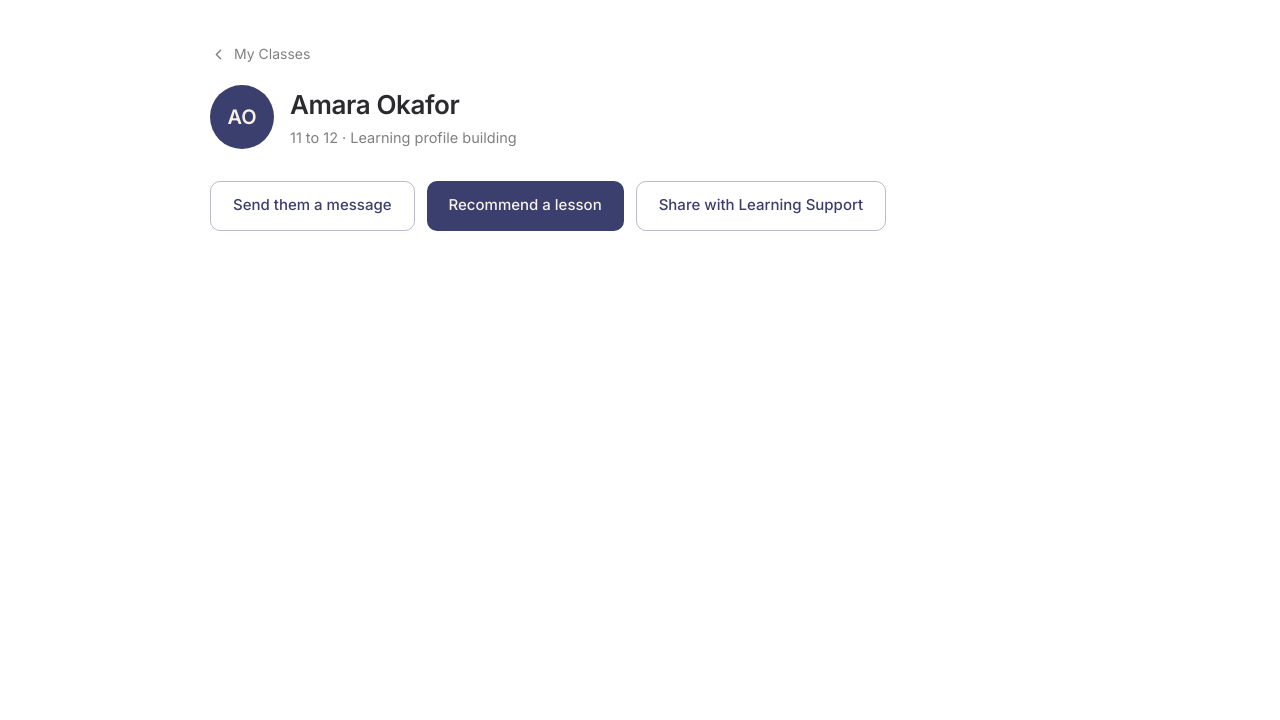
the quiet note › is NOT shown when the send failed
The width and height of the screenshot is (1280, 720).
Click the button "Share with Learning Support".
click(761, 206)  # box [636,180,886,230]
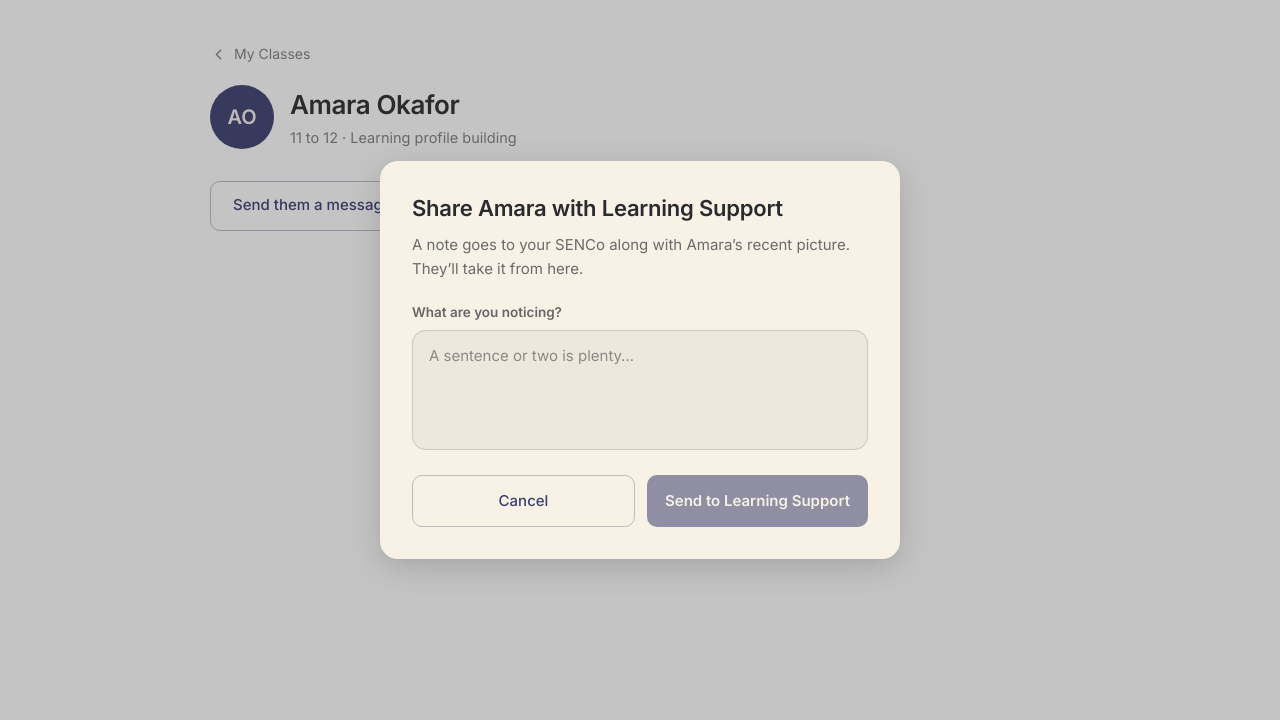
Type "Please take a look." into the text box.
click(640, 390); type("Please take a look.")  # box [412,330,868,450]
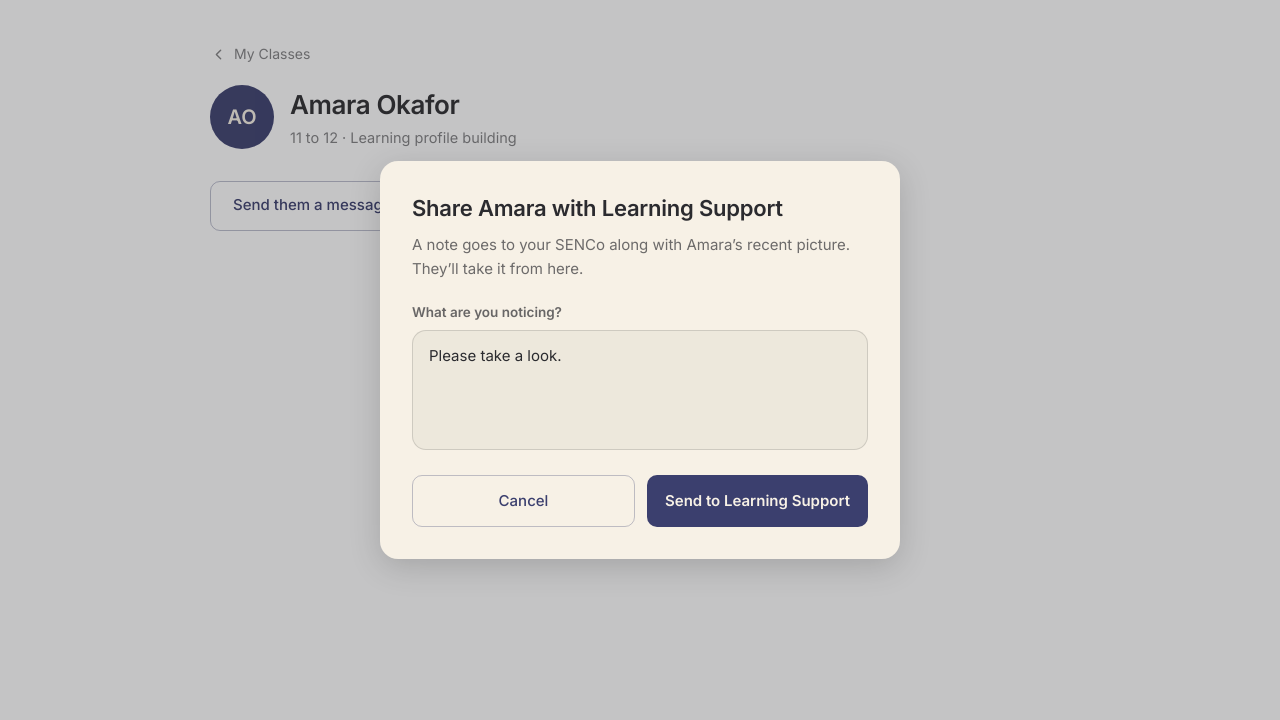
Click the button "Send to Learning Support".
click(758, 501)  # box [647,475,868,527]
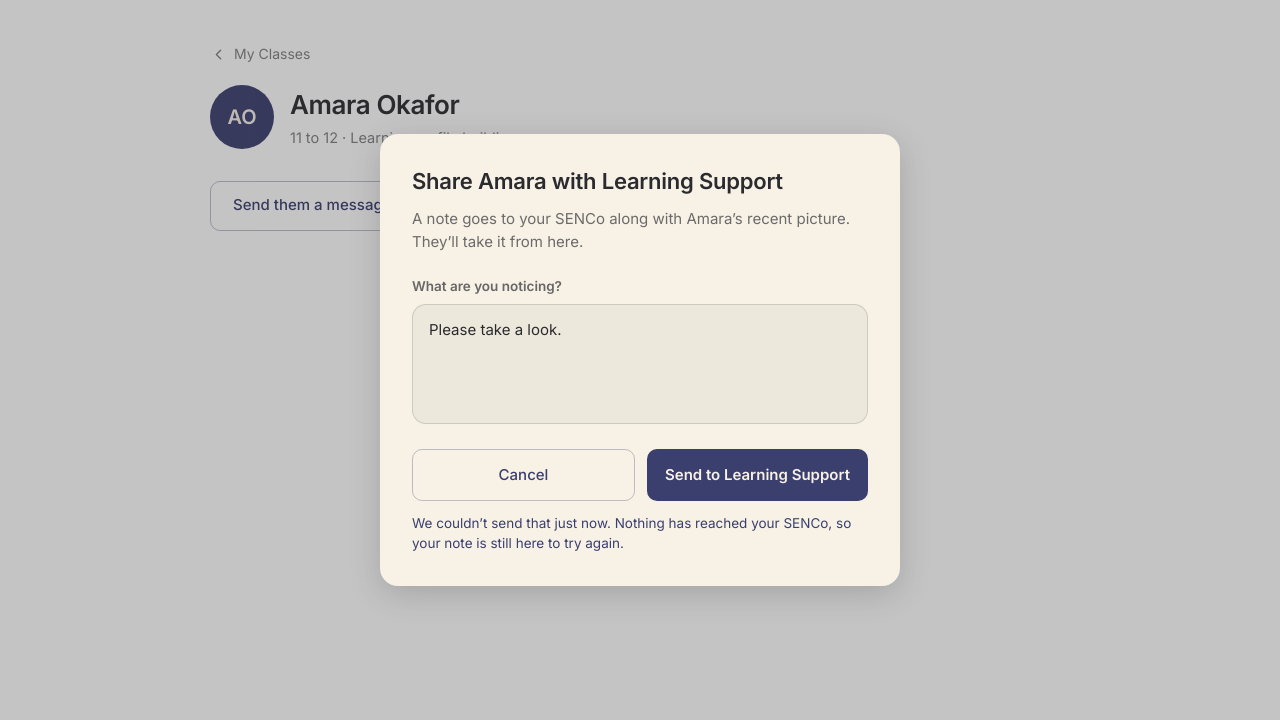
expect the dialog is shown: met, box [380,134,900,586]
expect the message is shown: met, box [412,513,868,554]
